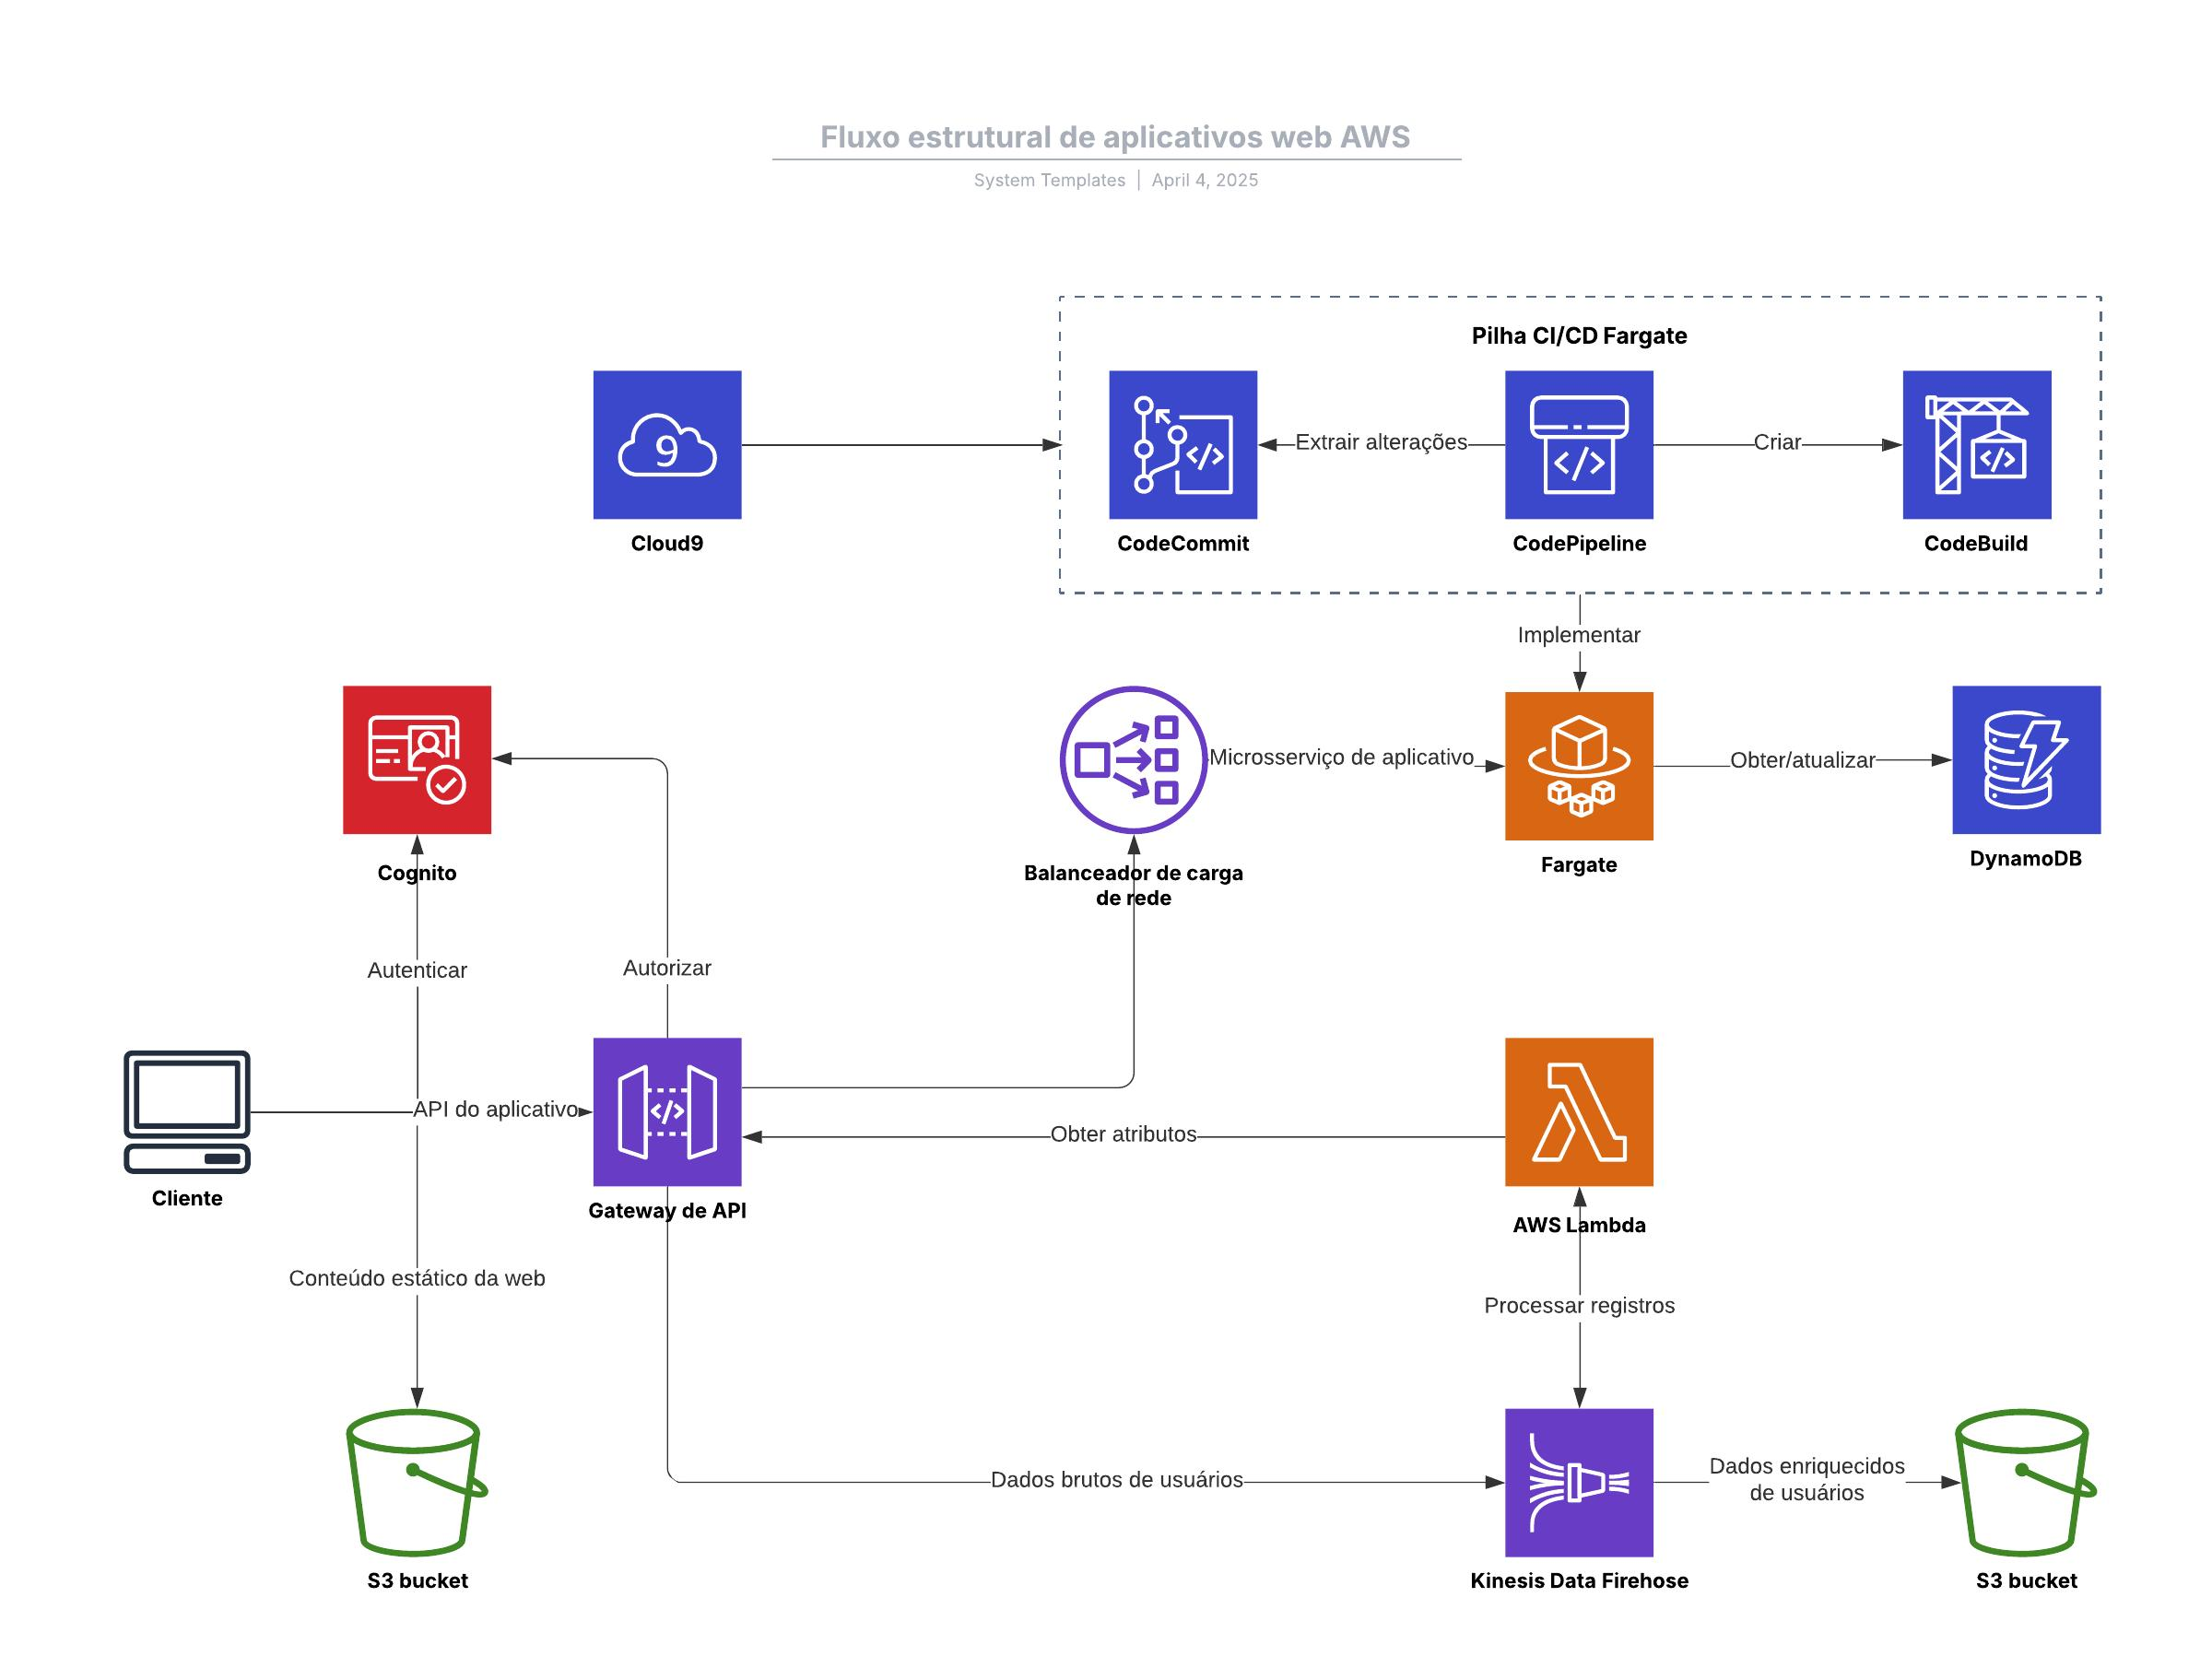API Gateway: (596, 1039, 741, 1188)
Auth: (349, 697, 475, 818)
Backend: (1493, 1048, 1649, 1184), (1511, 703, 1662, 839)
Database: (1958, 687, 2100, 834)
Load Balancer: (1062, 696, 1202, 827)
Messaging: (1504, 1407, 1656, 1545)
Storage: (1949, 1403, 2119, 1573), (337, 1410, 498, 1556)
User: (117, 1044, 266, 1183)
